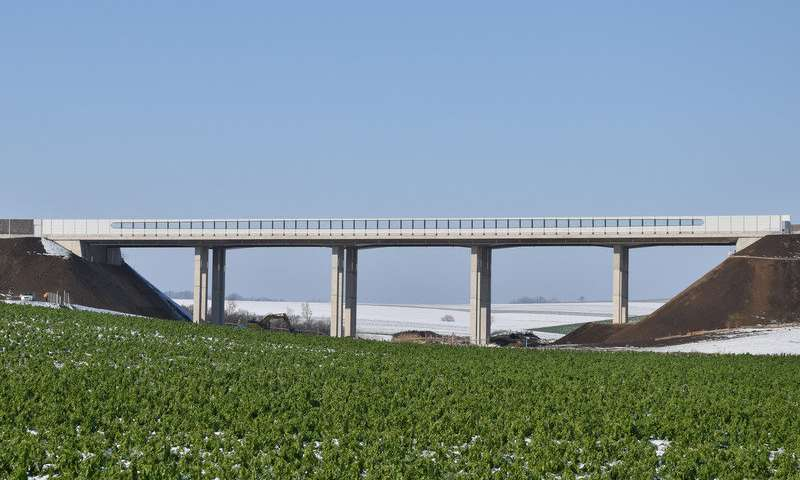bridge: (5, 211, 800, 255)
